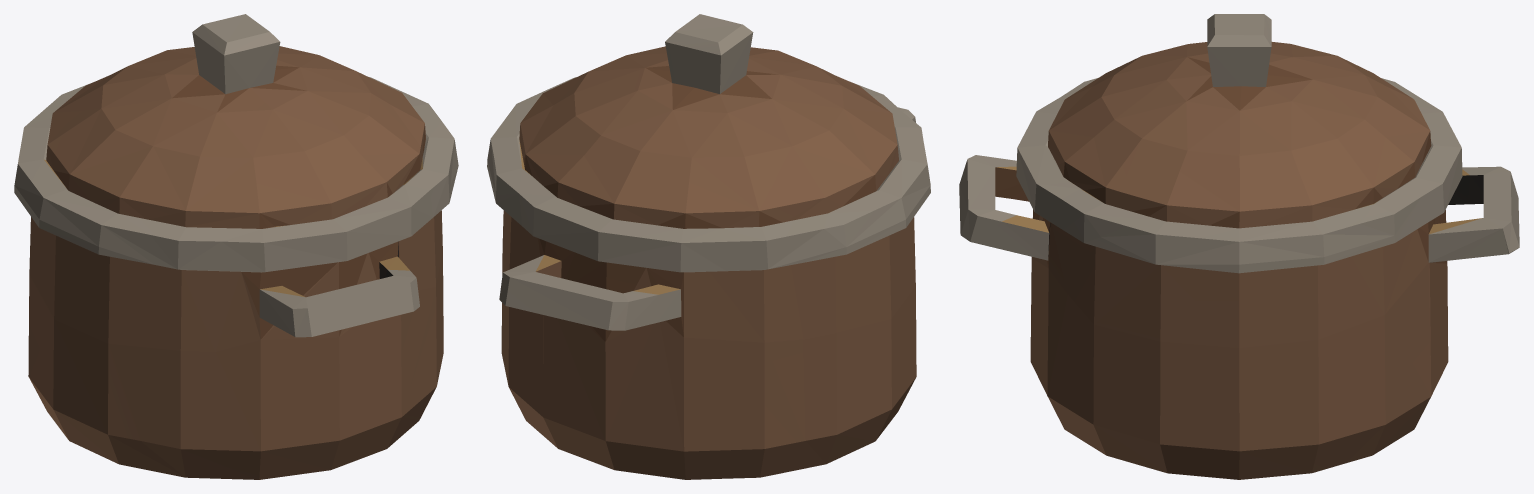
Rendered from mdvl_interiors_pot_01.glb.
The picture shows the model from 3 angles, left to right: view 1: azimuth 30°, elevation 25°; view 2: azimuth 150°, elevation 25°; view 3: azimuth 270°, elevation 25°; orthographic projection.
Parts seen in each view (by area): view 1: mdvl_interiors_pot_01; view 2: mdvl_interiors_pot_01; view 3: mdvl_interiors_pot_01.
Part boxes in pixels (box(x1,y1,x2,y2)): mdvl_interiors_pot_01: box(14, 14, 458, 479); mdvl_interiors_pot_01: box(487, 14, 930, 479); mdvl_interiors_pot_01: box(959, 14, 1519, 479).
Bounding box in the file's own units: 0.2525 × 0.2373 × 0.3097.
Materials: 1 (1 with a texture image).
